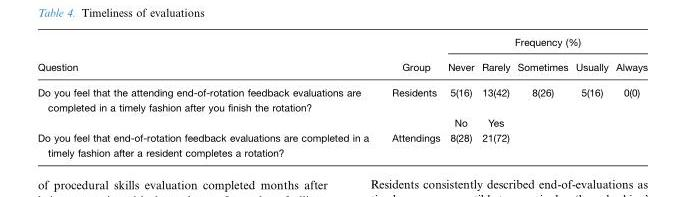table: (36, 37, 646, 157)
table column: (36, 37, 379, 157), (379, 37, 443, 157), (513, 37, 571, 157), (571, 37, 611, 157), (477, 37, 513, 157), (611, 37, 646, 157), (443, 37, 477, 157)
table column header: (36, 37, 646, 79)
table row: (36, 79, 646, 115), (36, 130, 646, 157), (36, 54, 646, 79), (36, 37, 646, 54), (36, 115, 646, 130)
table spanning cell: (36, 79, 379, 130), (36, 37, 379, 79), (443, 37, 646, 54), (379, 37, 443, 79)
